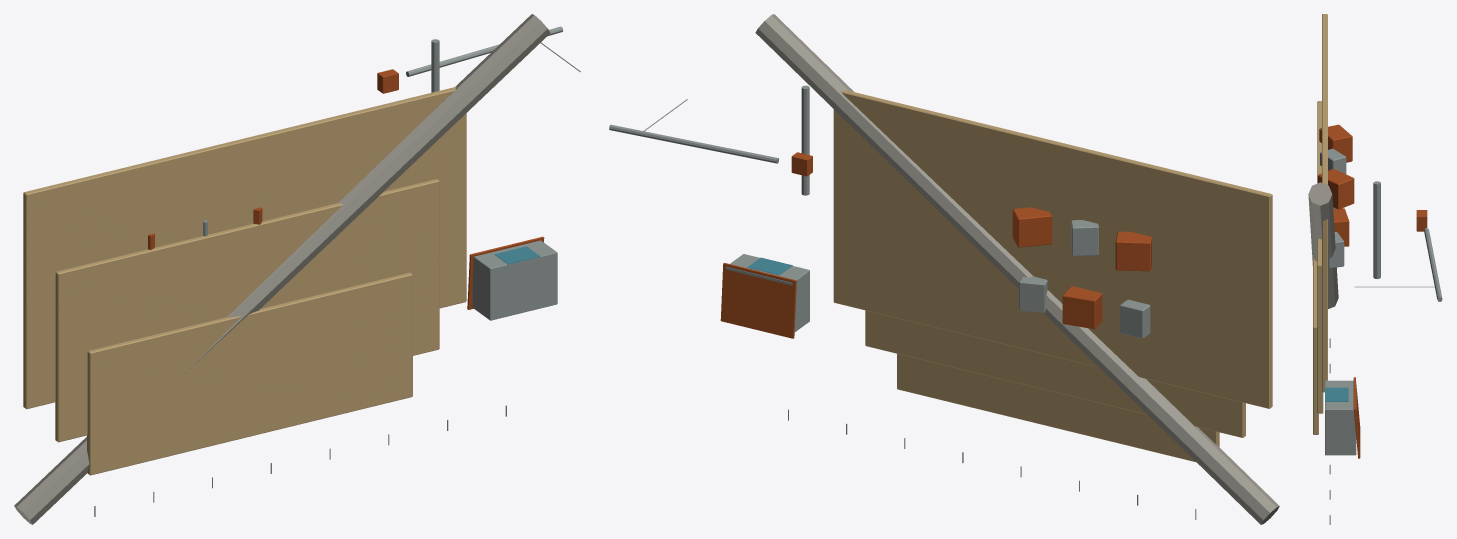
File: pf_scrap_valley_yard.glb
The picture shows the model from 3 angles, left to right: view 1: azimuth 30°, elevation 25°; view 2: azimuth 150°, elevation 25°; view 3: azimuth 270°, elevation 25°; orthographic projection. The views are drawn at different scales.
Visible parts, largest first — view 1: quarry_bench.004, quarry_bench.006, quarry_bench.005, haul_road.001, yard_shed_body; view 2: quarry_bench.004, haul_road.001, quarry_bench.005, quarry_bench.006, yard_shed_roof, yard_shed_body, scrap_pile_1, scrap_pile_5, scrap_pile_3, crane_boom, scrap_pile_0, scrap_pile_4 (+2 smaller); view 3: quarry_bench.004, yard_shed_body, haul_road.001, quarry_bench.005, scrap_pile_5, quarry_bench.006, crane_tower, scrap_pile_3, scrap_pile_1, crane_boom, scrap_pile_2, scrap_pile_4 (+3 smaller).
Boxes of the visible parts, x1,y1,x2,y2 form: quarry_bench.004: (23, 86, 466, 409); quarry_bench.006: (87, 272, 412, 475); quarry_bench.005: (55, 179, 439, 442); haul_road.001: (14, 14, 550, 524); yard_shed_body: (472, 240, 557, 320); quarry_bench.004: (833, 90, 1272, 408); haul_road.001: (755, 14, 1279, 524); quarry_bench.005: (865, 310, 1245, 437); quarry_bench.006: (897, 354, 1219, 461); yard_shed_roof: (720, 263, 796, 338); yard_shed_body: (726, 254, 809, 332); scrap_pile_1: (1062, 286, 1102, 329); scrap_pile_5: (1012, 207, 1052, 247); scrap_pile_3: (1115, 231, 1151, 271); crane_boom: (609, 124, 778, 163); scrap_pile_0: (1120, 299, 1150, 338); scrap_pile_4: (1071, 220, 1098, 256); quarry_bench.004: (1322, 14, 1327, 392); yard_shed_body: (1325, 380, 1356, 455); haul_road.001: (1308, 182, 1338, 308); quarry_bench.005: (1317, 101, 1323, 413); scrap_pile_5: (1317, 169, 1354, 209); quarry_bench.006: (1313, 257, 1318, 434); crane_tower: (1373, 181, 1380, 278); scrap_pile_3: (1319, 124, 1352, 162); scrap_pile_1: (1333, 208, 1349, 246); crane_boom: (1424, 228, 1442, 301); scrap_pile_2: (1328, 232, 1344, 268); scrap_pile_4: (1320, 148, 1346, 173).
Bounding box in the file's own units: 82.93 × 52.02 × 17.95.
